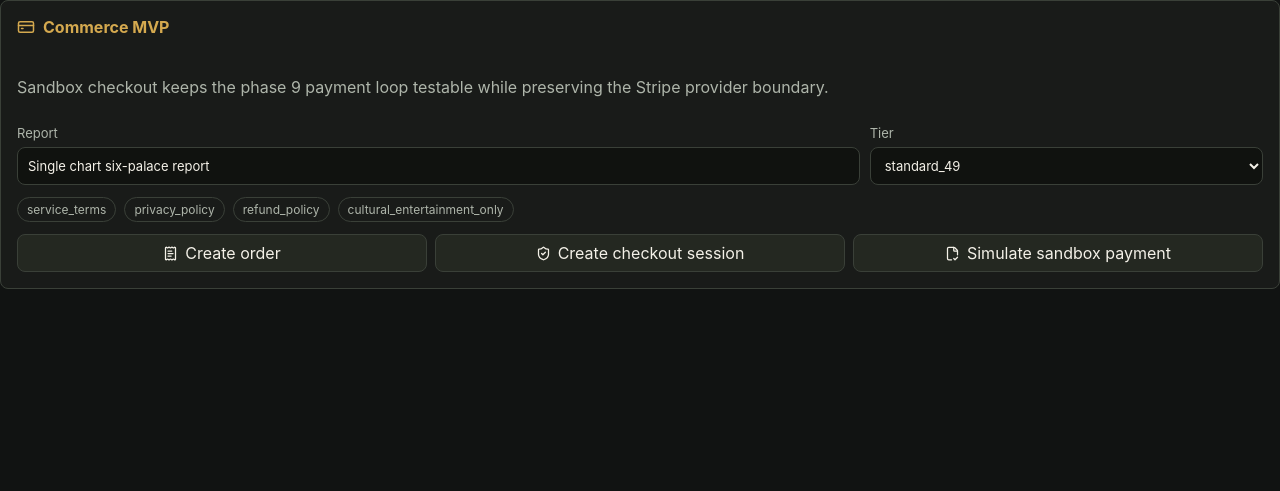
Scenario: phase 9 commerce panel UI › creates order, checkout session, sandbox payment, and shows entitlement
Expected: the heading "Commerce MVP" is shown, [43,17,170,37]
Click the button "Create order" at [222, 253], box [17,234,427,272]
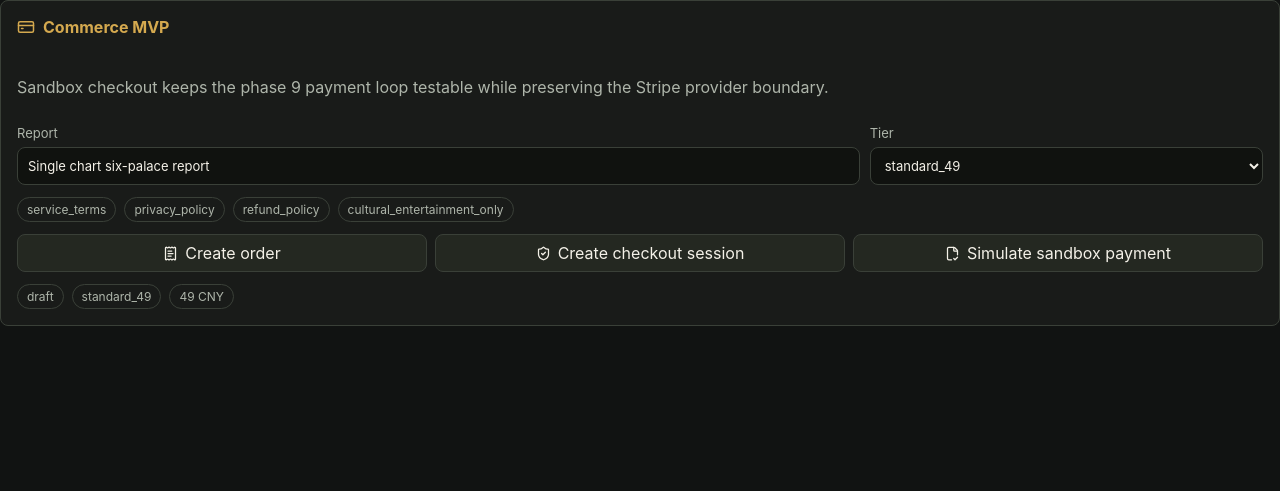
Now the text "draft" is shown, box [17,284,64,309]
Click the button "Create checkout session" at [640, 253], box [435,234,845,272]
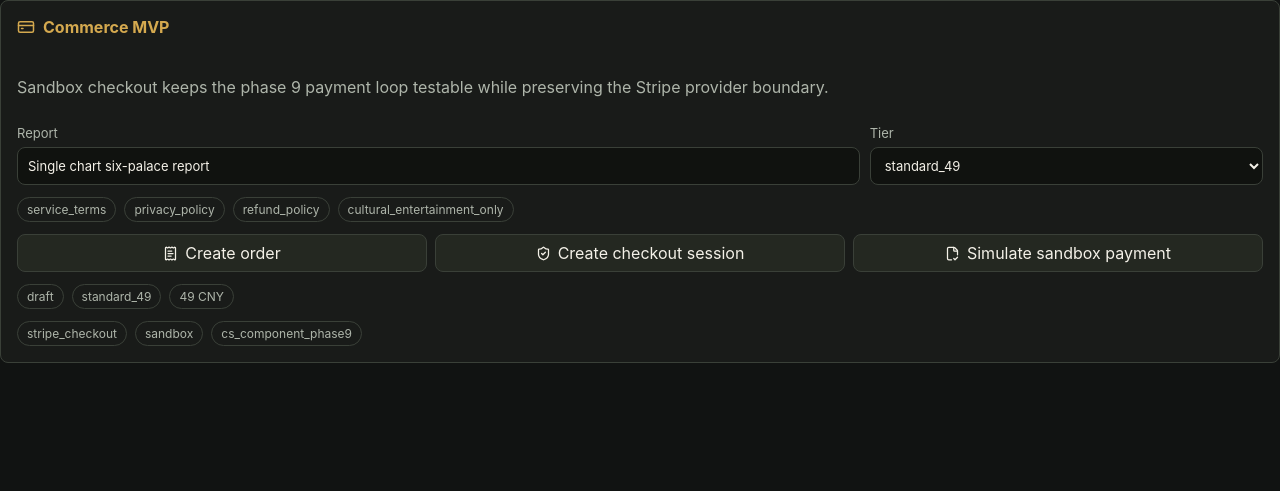
Now the text "stripe_checkout" is shown, box [17,321,127,346]
Click the button "Simulate sandbox payment" at [1058, 253], box [853,234,1263,272]
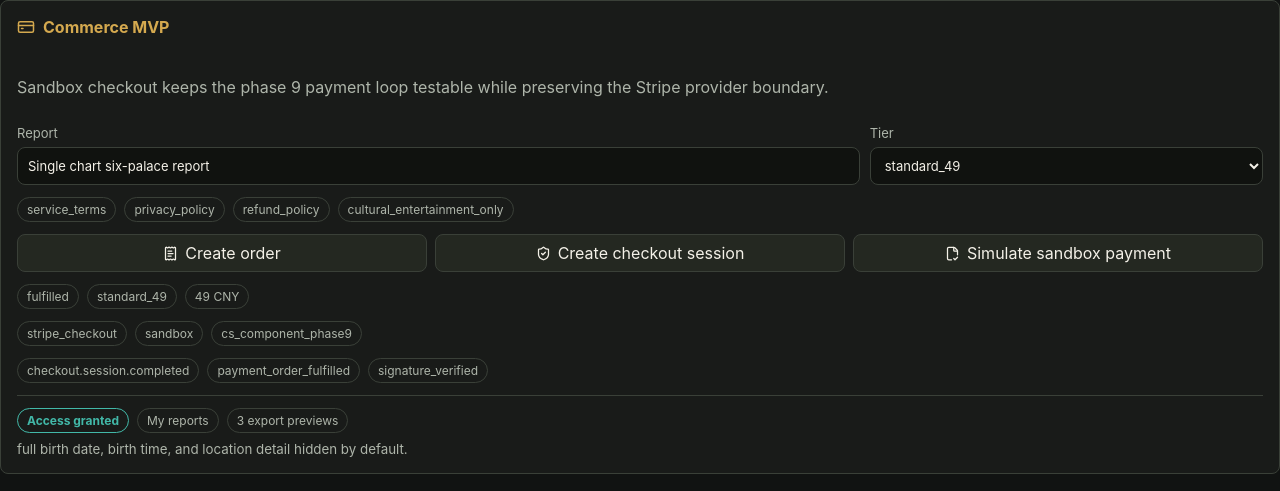
Now the text "fulfilled" is shown, box [17,284,79,309]
Now the text "Access granted" is shown, box [17,408,129,433]
